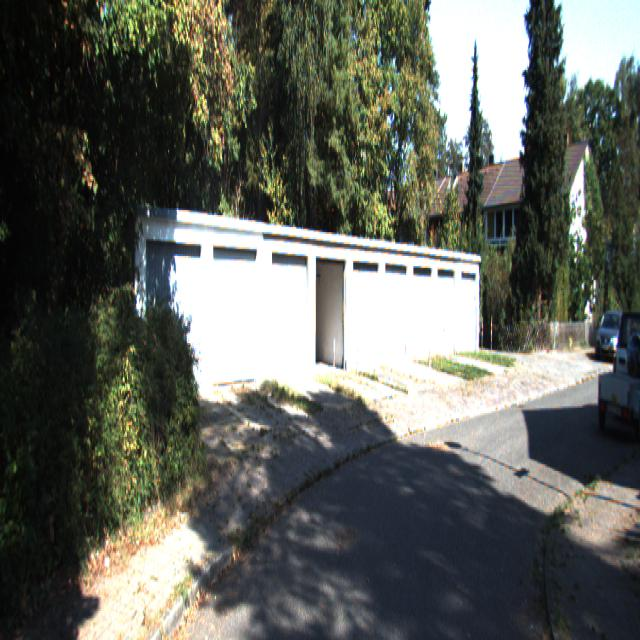Car: (612, 302, 640, 420), (598, 364, 640, 436), (594, 308, 630, 363)
